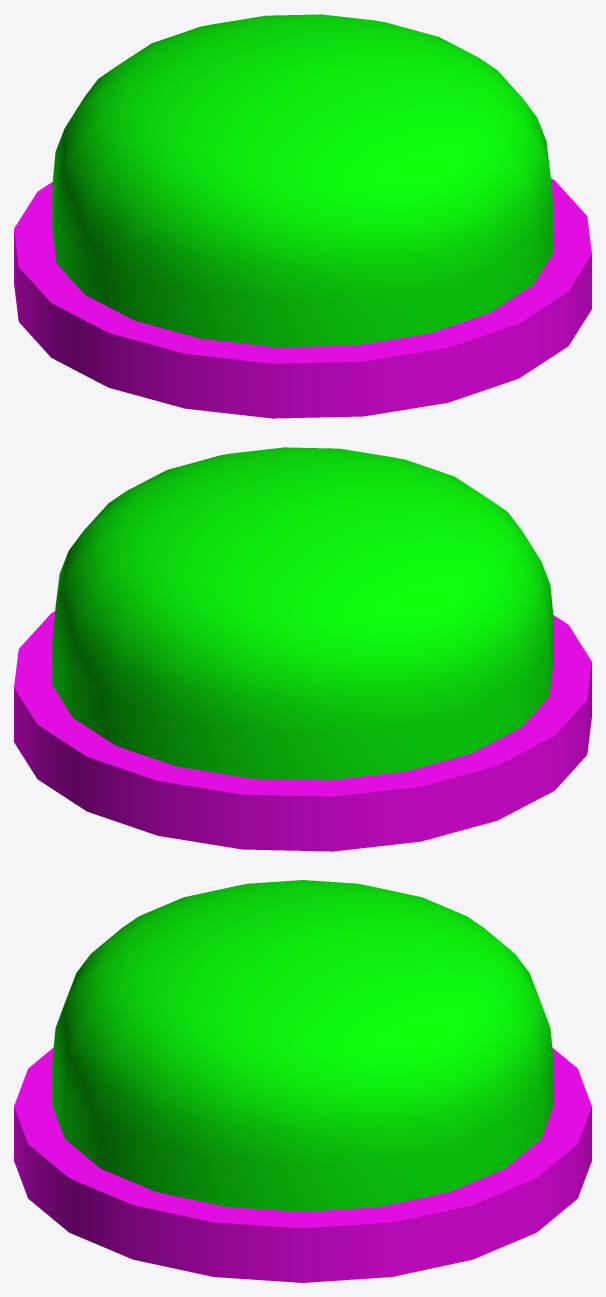
Rendered from AlarmLight.fbx.
3 renders of one model, top to bottom at view 1: azimuth 30°, elevation 25°; view 2: azimuth 150°, elevation 25°; view 3: azimuth 270°, elevation 25°, orthographic.
Parts seen in each view (by area): view 1: light_covering, Base_emergency_light; view 2: light_covering, Base_emergency_light; view 3: light_covering, Base_emergency_light.
Part boxes in pixels (x1,y1,x2,y2): light_covering: (52, 14, 553, 347); Base_emergency_light: (14, 178, 591, 418); light_covering: (52, 447, 553, 780); Base_emergency_light: (14, 611, 591, 851); light_covering: (52, 880, 553, 1211); Base_emergency_light: (14, 1047, 591, 1282).
Size of the model in its own units: 5.65 by 2.53 by 5.65.
